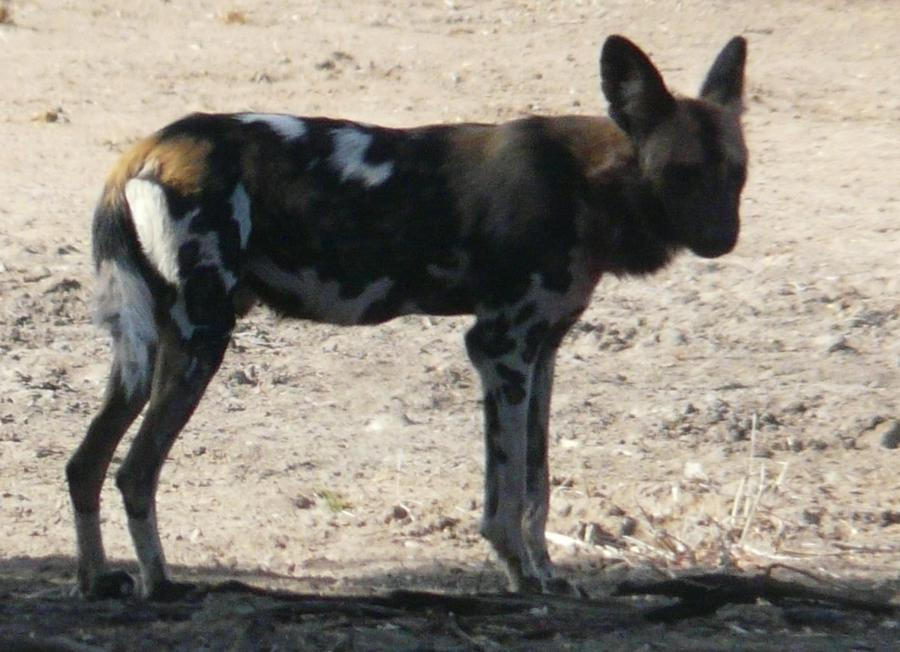wilddog: (69, 35, 810, 544)
